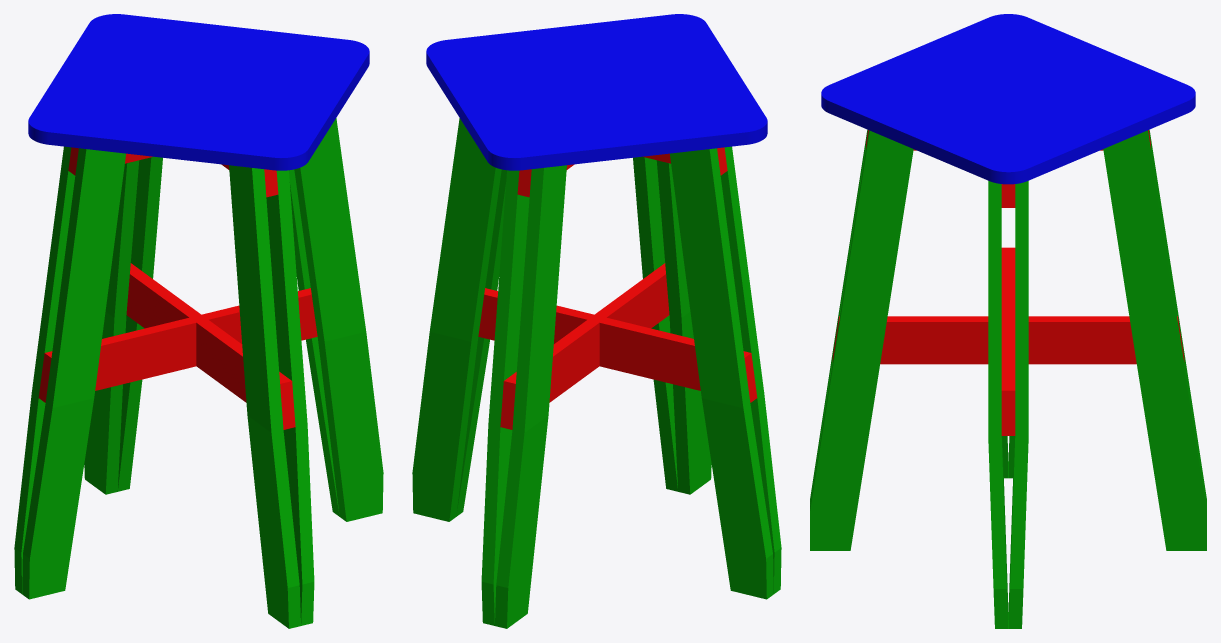
File: result.glb
3 views of the same model, side by side, from view 1: azimuth 30°, elevation 25°; view 2: azimuth 150°, elevation 25°; view 3: azimuth 270°, elevation 25° (orthographic). The views are drawn at different scales.
Visible parts, largest first — view 1: 644eb282-197c-453c-a725-c9f875952ace__undefined, 8bfff0bc-0952-4d7a-8aa7-c8f308a232f1__undefined, 3ba410dd-902f-4436-8a13-90f50a5d9ef4__undefined, e66dab0c-8a64-4470-8701-d488e2c8786a__Box_4, fbc36711-ac6c-4a90-a5a7-e02b52d3714c__Box_5, 55388eed-b794-4f8e-b850-77eee36deb68__Box_6, d40fd47c-5ca4-40ad-82dd-116a4effc466__undefined, 1de137c5-d540-4849-87b8-28f1493969fc__undefined, 0e5be004-8c0e-4986-97cb-e3051728bff8__undefined, 6fd30b37-16da-422f-b291-7d8cb205a374__undefined, b8f74750-363e-454b-a8a0-386369b78cb7__undefined, b5ebb7cb-1169-4f51-a357-a88b735282f5__undefined (+1 smaller); view 2: b8f74750-363e-454b-a8a0-386369b78cb7__undefined, 6dd84070-4b7c-4147-9087-400c3f0eb79d__undefined, 0e5be004-8c0e-4986-97cb-e3051728bff8__undefined, 55388eed-b794-4f8e-b850-77eee36deb68__Box_6, fbc36711-ac6c-4a90-a5a7-e02b52d3714c__Box_5, e66dab0c-8a64-4470-8701-d488e2c8786a__Box_4, b5ebb7cb-1169-4f51-a357-a88b735282f5__undefined, 1de137c5-d540-4849-87b8-28f1493969fc__undefined, 3ba410dd-902f-4436-8a13-90f50a5d9ef4__undefined, 6fd30b37-16da-422f-b291-7d8cb205a374__undefined, 644eb282-197c-453c-a725-c9f875952ace__undefined, d40fd47c-5ca4-40ad-82dd-116a4effc466__undefined (+1 smaller); view 3: b5ebb7cb-1169-4f51-a357-a88b735282f5__undefined, d40fd47c-5ca4-40ad-82dd-116a4effc466__undefined, 55388eed-b794-4f8e-b850-77eee36deb68__Box_6, fbc36711-ac6c-4a90-a5a7-e02b52d3714c__Box_5, e66dab0c-8a64-4470-8701-d488e2c8786a__Box_4, 6fd30b37-16da-422f-b291-7d8cb205a374__undefined, 8bfff0bc-0952-4d7a-8aa7-c8f308a232f1__undefined, 6dd84070-4b7c-4147-9087-400c3f0eb79d__undefined, 1de137c5-d540-4849-87b8-28f1493969fc__undefined, 0e5be004-8c0e-4986-97cb-e3051728bff8__undefined, 3ba410dd-902f-4436-8a13-90f50a5d9ef4__undefined.
Boxes of the visible parts, left/top/right/bottom form: 644eb282-197c-453c-a725-c9f875952ace__undefined: left=22, top=148, right=125, bottom=599; 8bfff0bc-0952-4d7a-8aa7-c8f308a232f1__undefined: left=294, top=118, right=383, bottom=521; 3ba410dd-902f-4436-8a13-90f50a5d9ef4__undefined: left=229, top=165, right=300, bottom=628; e66dab0c-8a64-4470-8701-d488e2c8786a__Box_4: left=28, top=90, right=325, bottom=170; fbc36711-ac6c-4a90-a5a7-e02b52d3714c__Box_5: left=47, top=50, right=350, bottom=133; 55388eed-b794-4f8e-b850-77eee36deb68__Box_6: left=72, top=14, right=369, bottom=93; d40fd47c-5ca4-40ad-82dd-116a4effc466__undefined: left=266, top=170, right=314, bottom=625; 1de137c5-d540-4849-87b8-28f1493969fc__undefined: left=38, top=288, right=317, bottom=402; 0e5be004-8c0e-4986-97cb-e3051728bff8__undefined: left=84, top=160, right=139, bottom=494; 6fd30b37-16da-422f-b291-7d8cb205a374__undefined: left=126, top=263, right=295, bottom=429; b8f74750-363e-454b-a8a0-386369b78cb7__undefined: left=14, top=146, right=75, bottom=593; b5ebb7cb-1169-4f51-a357-a88b735282f5__undefined: left=117, top=156, right=162, bottom=491; b8f74750-363e-454b-a8a0-386369b78cb7__undefined: left=670, top=148, right=773, bottom=599; 6dd84070-4b7c-4147-9087-400c3f0eb79d__undefined: left=412, top=118, right=501, bottom=521; 0e5be004-8c0e-4986-97cb-e3051728bff8__undefined: left=495, top=165, right=566, bottom=628; 55388eed-b794-4f8e-b850-77eee36deb68__Box_6: left=426, top=32, right=587, bottom=170; fbc36711-ac6c-4a90-a5a7-e02b52d3714c__Box_5: left=513, top=22, right=680, bottom=162; e66dab0c-8a64-4470-8701-d488e2c8786a__Box_4: left=606, top=14, right=767, bottom=152; b5ebb7cb-1169-4f51-a357-a88b735282f5__undefined: left=481, top=170, right=529, bottom=625; 1de137c5-d540-4849-87b8-28f1493969fc__undefined: left=478, top=288, right=757, bottom=402; 3ba410dd-902f-4436-8a13-90f50a5d9ef4__undefined: left=656, top=160, right=711, bottom=494; 6fd30b37-16da-422f-b291-7d8cb205a374__undefined: left=500, top=263, right=669, bottom=429; 644eb282-197c-453c-a725-c9f875952ace__undefined: left=720, top=146, right=781, bottom=593; d40fd47c-5ca4-40ad-82dd-116a4effc466__undefined: left=633, top=156, right=678, bottom=491; b5ebb7cb-1169-4f51-a357-a88b735282f5__undefined: left=1103, top=130, right=1206, bottom=550; d40fd47c-5ca4-40ad-82dd-116a4effc466__undefined: left=810, top=130, right=913, bottom=550; 55388eed-b794-4f8e-b850-77eee36deb68__Box_6: left=942, top=65, right=1195, bottom=184; fbc36711-ac6c-4a90-a5a7-e02b52d3714c__Box_5: left=876, top=37, right=1140, bottom=160; e66dab0c-8a64-4470-8701-d488e2c8786a__Box_4: left=821, top=14, right=1074, bottom=132; 6fd30b37-16da-422f-b291-7d8cb205a374__undefined: left=832, top=316, right=1184, bottom=364; 8bfff0bc-0952-4d7a-8aa7-c8f308a232f1__undefined: left=988, top=181, right=1008, bottom=628; 6dd84070-4b7c-4147-9087-400c3f0eb79d__undefined: left=1008, top=181, right=1028, bottom=628; 1de137c5-d540-4849-87b8-28f1493969fc__undefined: left=1001, top=247, right=1015, bottom=435; 0e5be004-8c0e-4986-97cb-e3051728bff8__undefined: left=1149, top=129, right=1206, bottom=504; 3ba410dd-902f-4436-8a13-90f50a5d9ef4__undefined: left=810, top=129, right=867, bottom=504.
Size of the model in its own units: 382 by 480 by 382.
